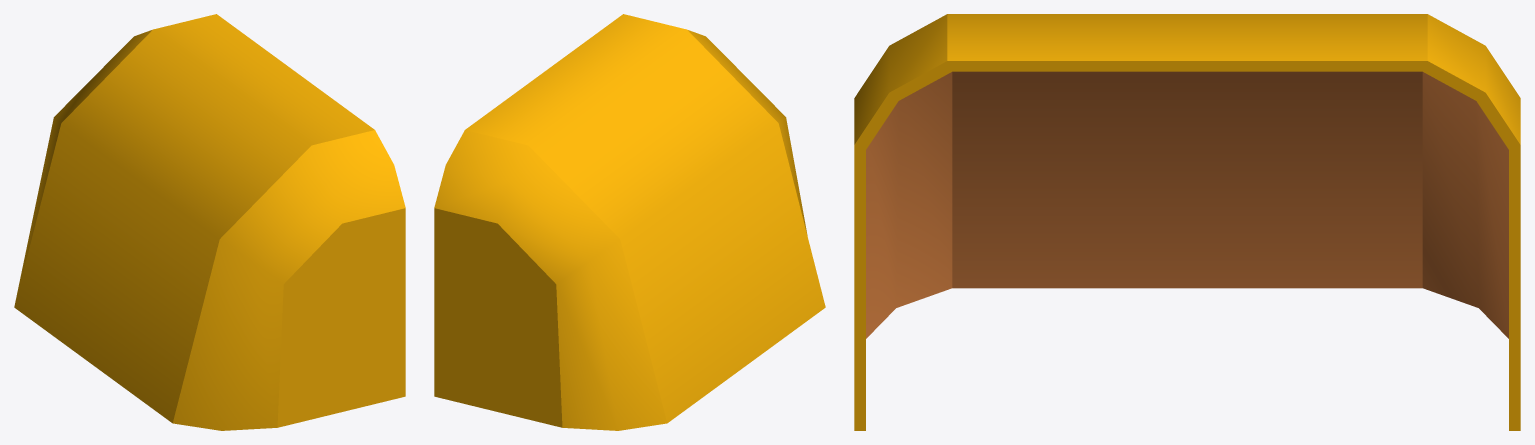
Rendered from SM_Gate.fbx.
The picture shows the model from 3 angles, left to right: view 1: azimuth 30°, elevation 25°; view 2: azimuth 150°, elevation 25°; view 3: azimuth 270°, elevation 25°; orthographic projection. The views are drawn at different scales.
Visible parts, largest first — view 1: SM_Gate; view 2: SM_Gate; view 3: SM_Gate.
Boxes of the visible parts, x1,y1,x2,y2 form: SM_Gate: (14, 14, 405, 430); SM_Gate: (434, 14, 825, 430); SM_Gate: (854, 14, 1520, 430).
Size of the model in its own units: 197 by 227 by 370.
